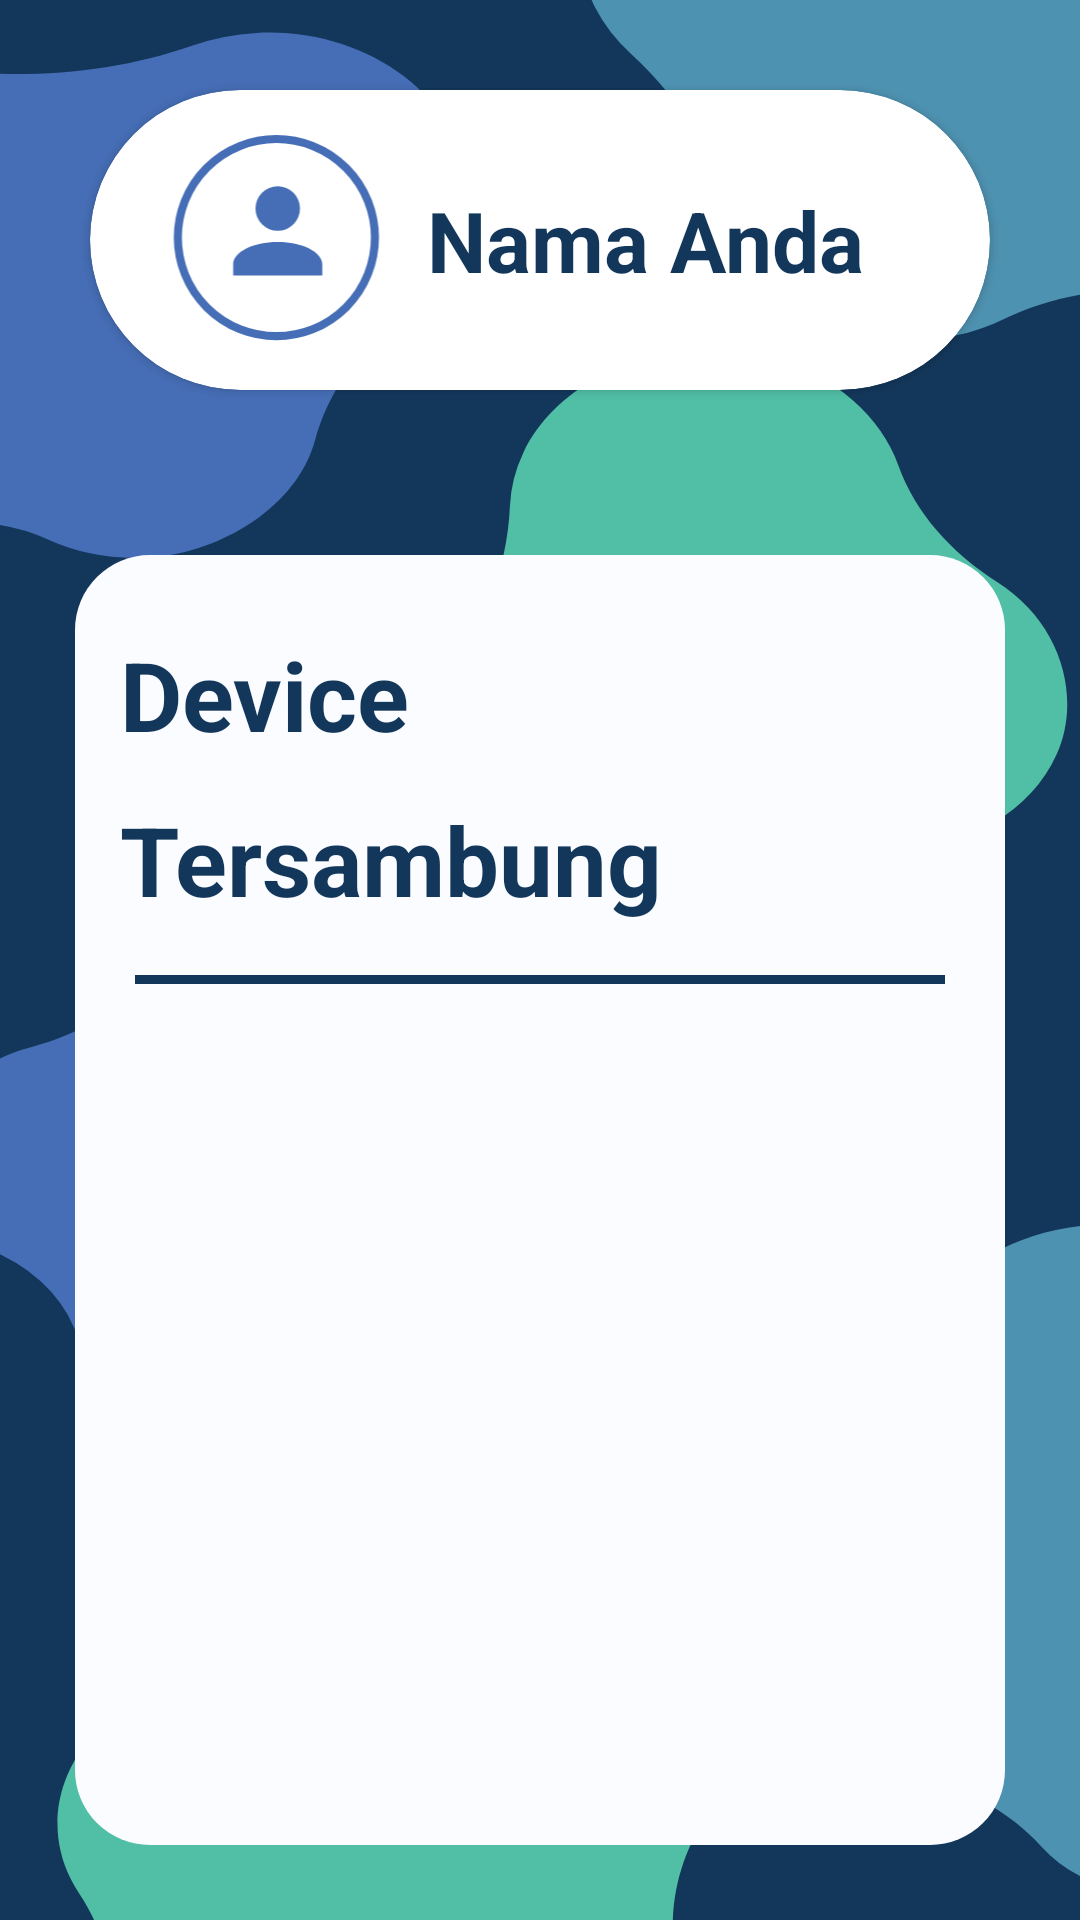

Where to tap for icons on this 1080x1920 app screen, as (x=x, y=y):
account: (x=276, y=238)
